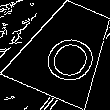O_NE: (30, 18, 101, 83)
